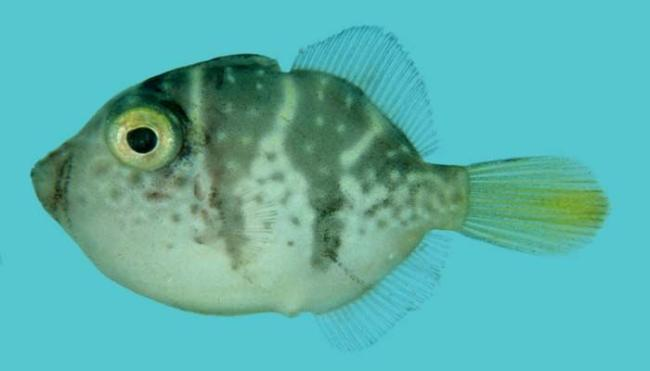fish: (30, 26, 610, 352)
